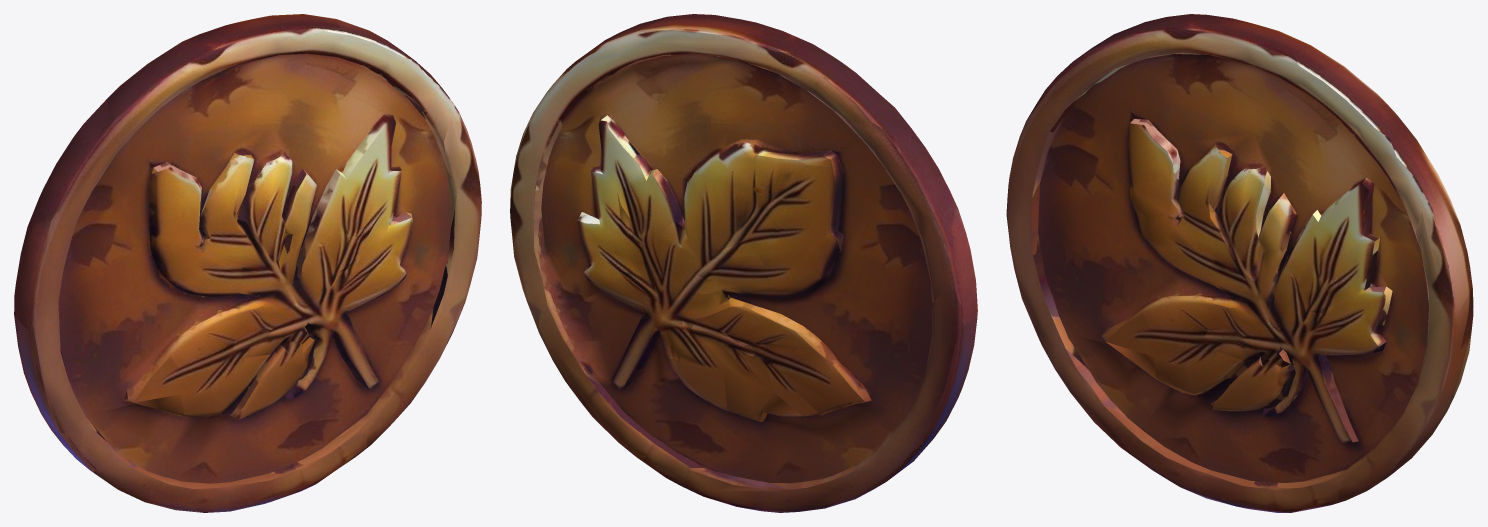
The model's file is old_coin.glb.
3 views of the same model, side by side, from view 1: azimuth 30°, elevation 25°; view 2: azimuth 150°, elevation 25°; view 3: azimuth 330°, elevation 25° (orthographic).
Parts seen in each view (by area): view 1: old_coin; view 2: old_coin; view 3: old_coin.
Boxes of the visible parts, left/top/right/bottom form: old_coin: left=14, top=14, right=481, bottom=512; old_coin: left=510, top=14, right=977, bottom=512; old_coin: left=1006, top=14, right=1473, bottom=512.
Bounding box in the file's own units: 0.9989 × 1 × 0.0809.
1 material, 1 textured.
